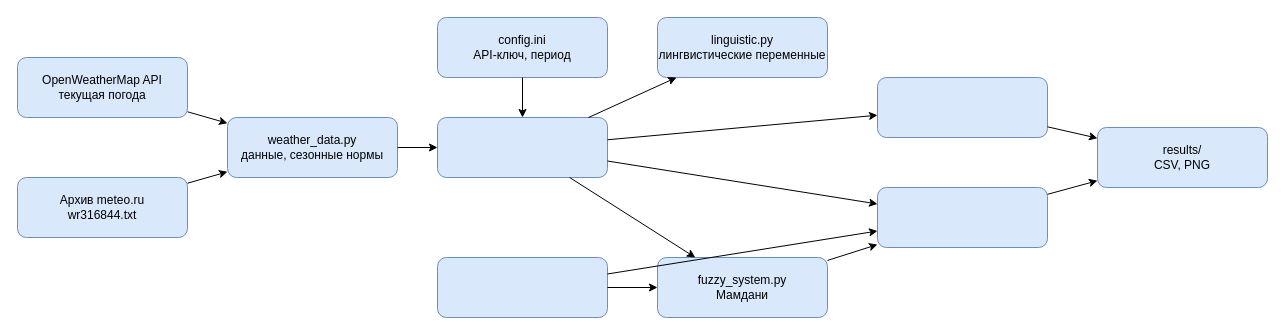
Some shapes in this 1285 by 335 pixel diagram are drawn without their labels. Each missing label, with the box of its shape:
analysis.py аномалии, рекомендации: (876, 186, 1048, 248)
main.py управление: (436, 116, 608, 178)
plots.py графики, таблицы: (876, 76, 1048, 138)
Экспертные знания о климате городов: (436, 256, 608, 318)
